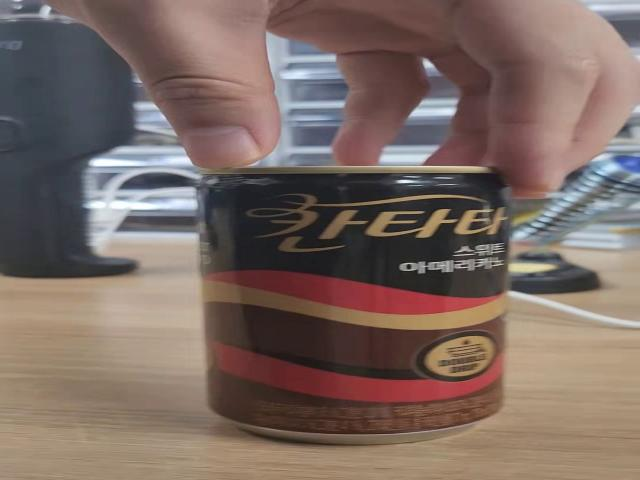Canned_drinks: (189, 148, 524, 450)
